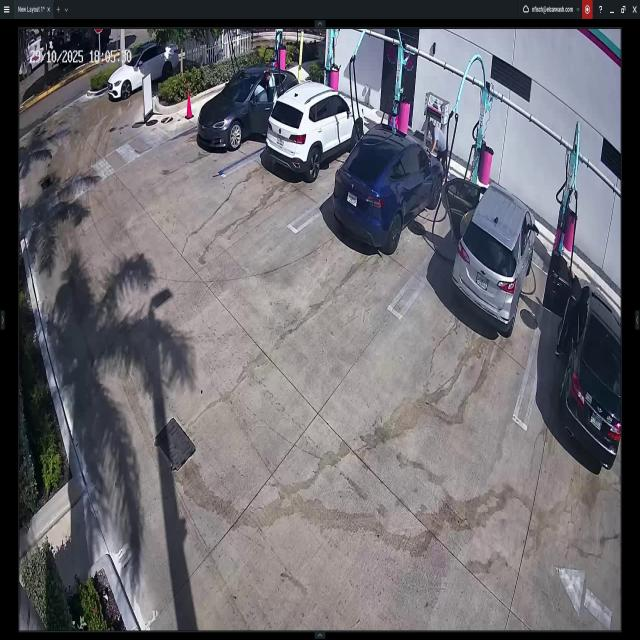Car: (550, 251, 620, 470), (443, 174, 534, 331), (334, 128, 444, 253), (194, 67, 298, 154), (269, 84, 364, 178), (108, 38, 180, 107)
